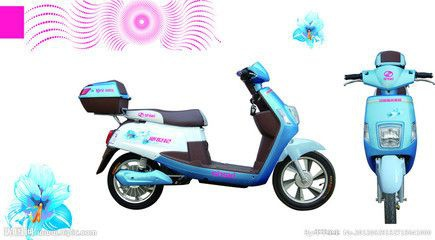non-vehicle: (73, 60, 338, 212), (342, 48, 431, 221)
